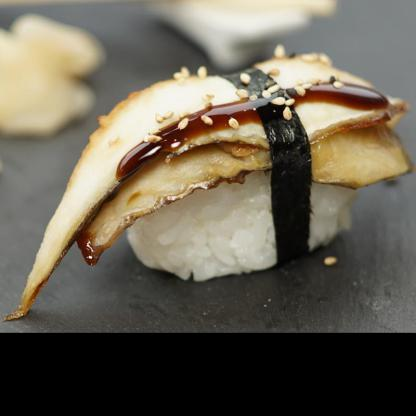anago: (8, 33, 414, 319)
